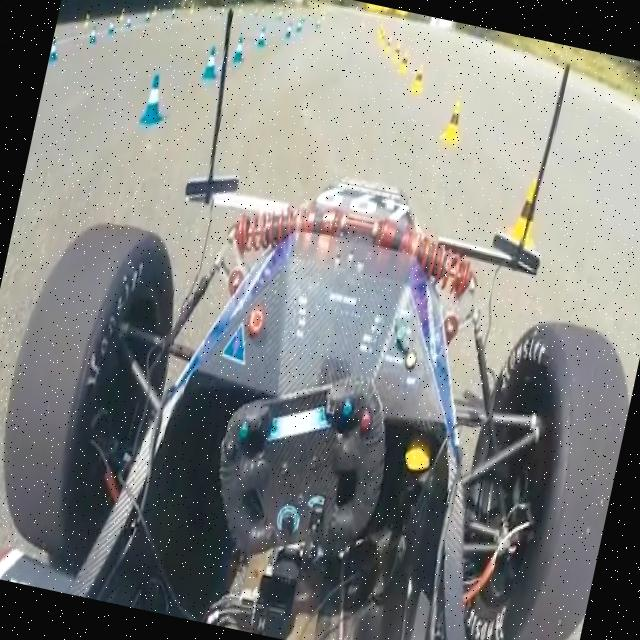blue_cone: (136, 68, 174, 130), (198, 40, 223, 81), (229, 34, 247, 66), (254, 23, 270, 48), (48, 39, 61, 64)
yellow_cone: (502, 176, 549, 256), (437, 94, 468, 148), (409, 64, 427, 96), (396, 50, 412, 76)
